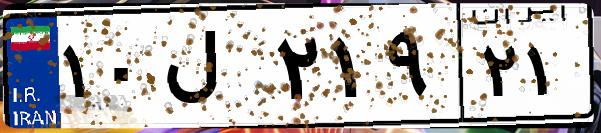0: (110, 28, 158, 98)
1: (330, 28, 385, 110), (57, 26, 110, 100), (525, 38, 570, 115)
2: (270, 28, 330, 110), (475, 38, 525, 113)
9: (385, 28, 445, 110)
ل: (158, 20, 270, 120)
